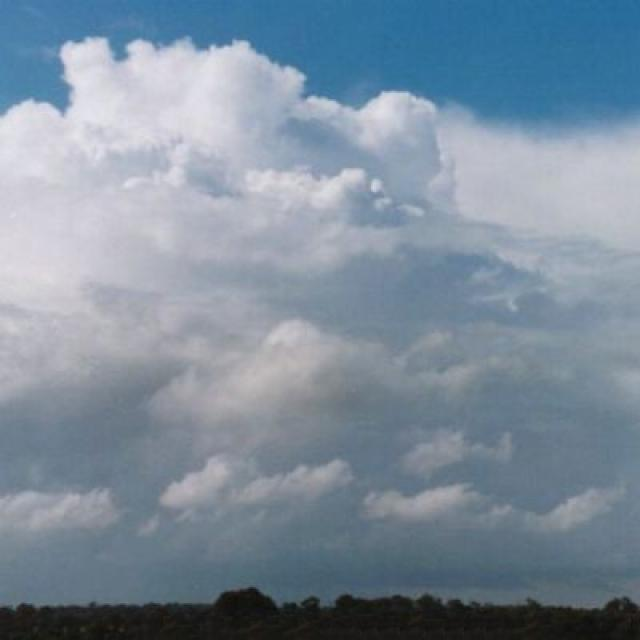St: (1, 10, 640, 581)
